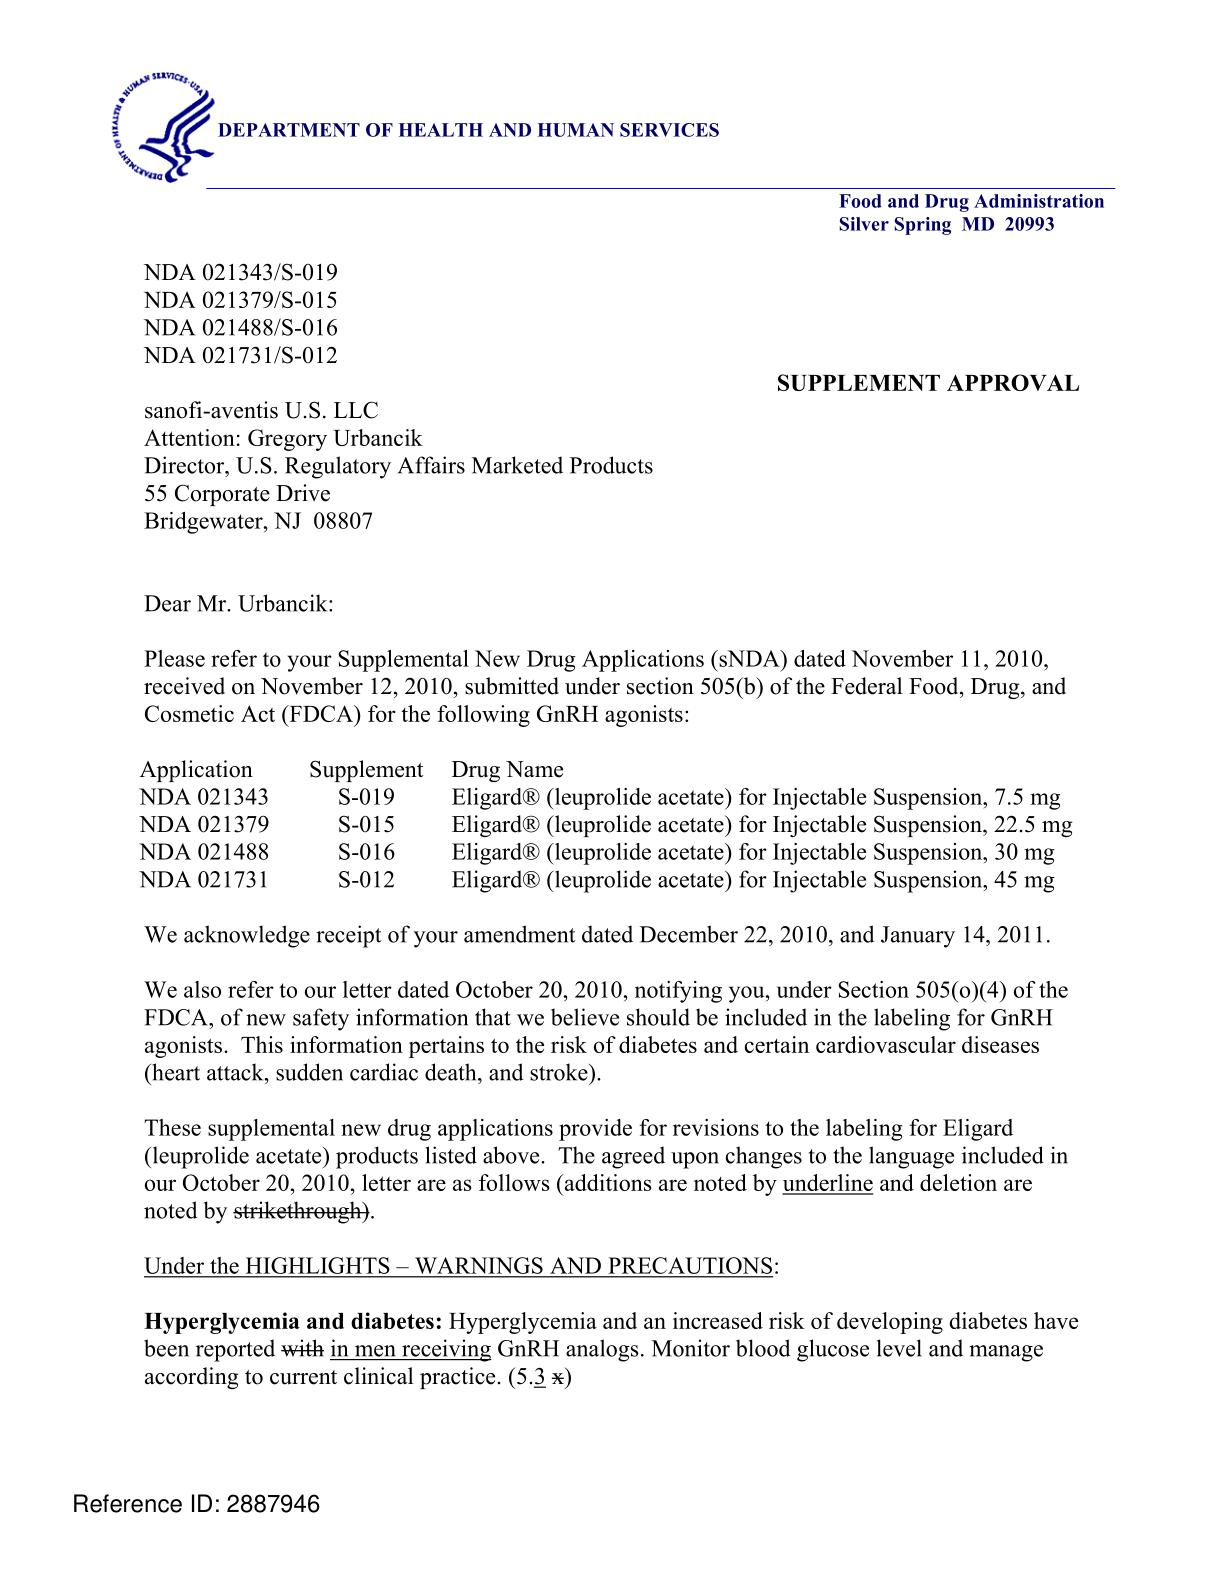nolines: (138, 757, 1075, 895)
